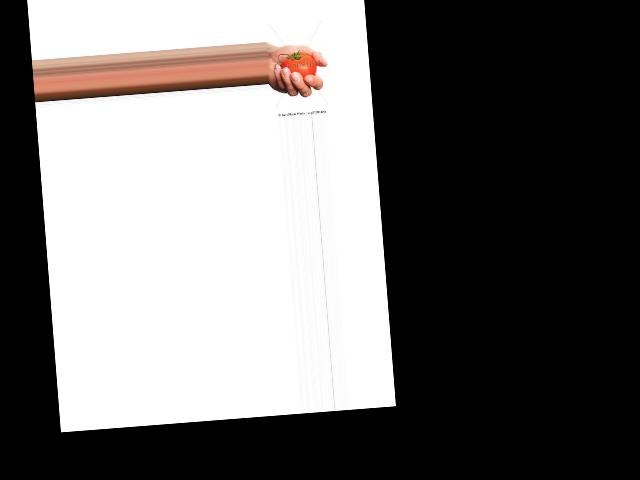tomato: (280, 51, 317, 78)
